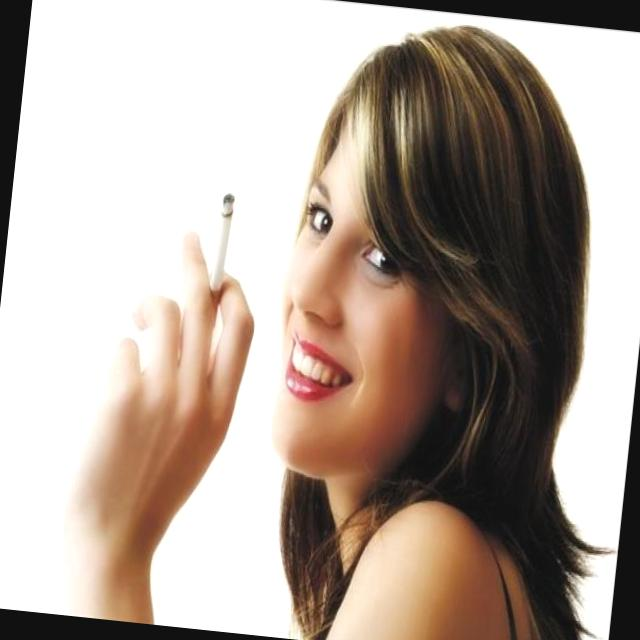smoke: (193, 180, 251, 338)
